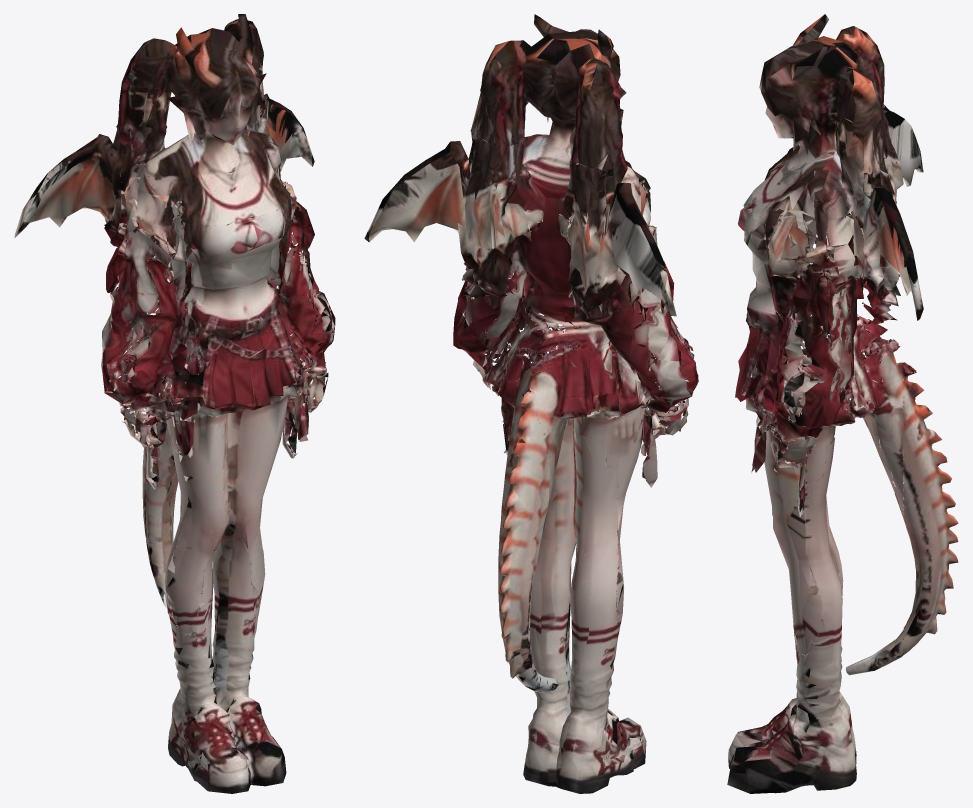
The model's file is dragongirl_style1.lo.glb.
3 views of the same model, side by side, from view 1: azimuth 30°, elevation 25°; view 2: azimuth 150°, elevation 25°; view 3: azimuth 270°, elevation 25° (orthographic). The views are drawn at different scales.
Visible parts, largest first — view 1: Body, Head, ArmL, LegR, LegL, WingL, FinL, ArmR, WingR, Tail3, Tail2, FinR; view 2: Head, LegL, WingR, Body, WingL, LegR, ArmL, Tail1, Tail2, ArmR, Tail3; view 3: Head, Body, LegR, ArmR, WingR, Tail1, Tail2, Tail3, FinR, WingL, LegL, ArmL.
Boxes of the visible parts, box(x1,y1,x2,y2) form: Body: box(119, 195, 327, 793); Head: box(102, 14, 335, 399); ArmL: box(101, 178, 205, 483); LegR: box(205, 460, 270, 752); LegL: box(164, 419, 238, 781); WingL: box(14, 125, 167, 259); FinL: box(118, 83, 177, 176); ArmR: box(270, 166, 334, 456); WingR: box(258, 93, 314, 171); Tail3: box(142, 498, 174, 607); Tail2: box(142, 439, 178, 520); FinR: box(244, 54, 276, 145); Head: box(453, 14, 698, 398); LegL: box(529, 425, 634, 793); WingR: box(364, 133, 529, 354); Body: box(473, 210, 688, 768); WingL: box(561, 158, 676, 365); LegR: box(523, 424, 576, 786); ArmL: box(587, 182, 694, 481); Tail1: box(501, 401, 549, 535); Tail2: box(498, 515, 541, 603); ArmR: box(461, 209, 563, 452); Tail3: box(498, 586, 537, 688); Head: box(741, 14, 915, 427); Body: box(727, 193, 915, 793); LegR: box(762, 430, 902, 793); ArmR: box(741, 211, 873, 515); WingR: box(862, 157, 923, 356); Tail1: box(903, 370, 947, 507); Tail2: box(903, 471, 958, 571); Tail3: box(903, 536, 958, 655); FinR: box(814, 116, 863, 203); WingL: box(883, 105, 923, 205); LegL: box(760, 432, 902, 769); ArmL: box(747, 170, 865, 376).
Bounding box in the file's own units: 0.7933 × 1.85 × 0.5198.
Materials: 1 (1 with a texture image).
